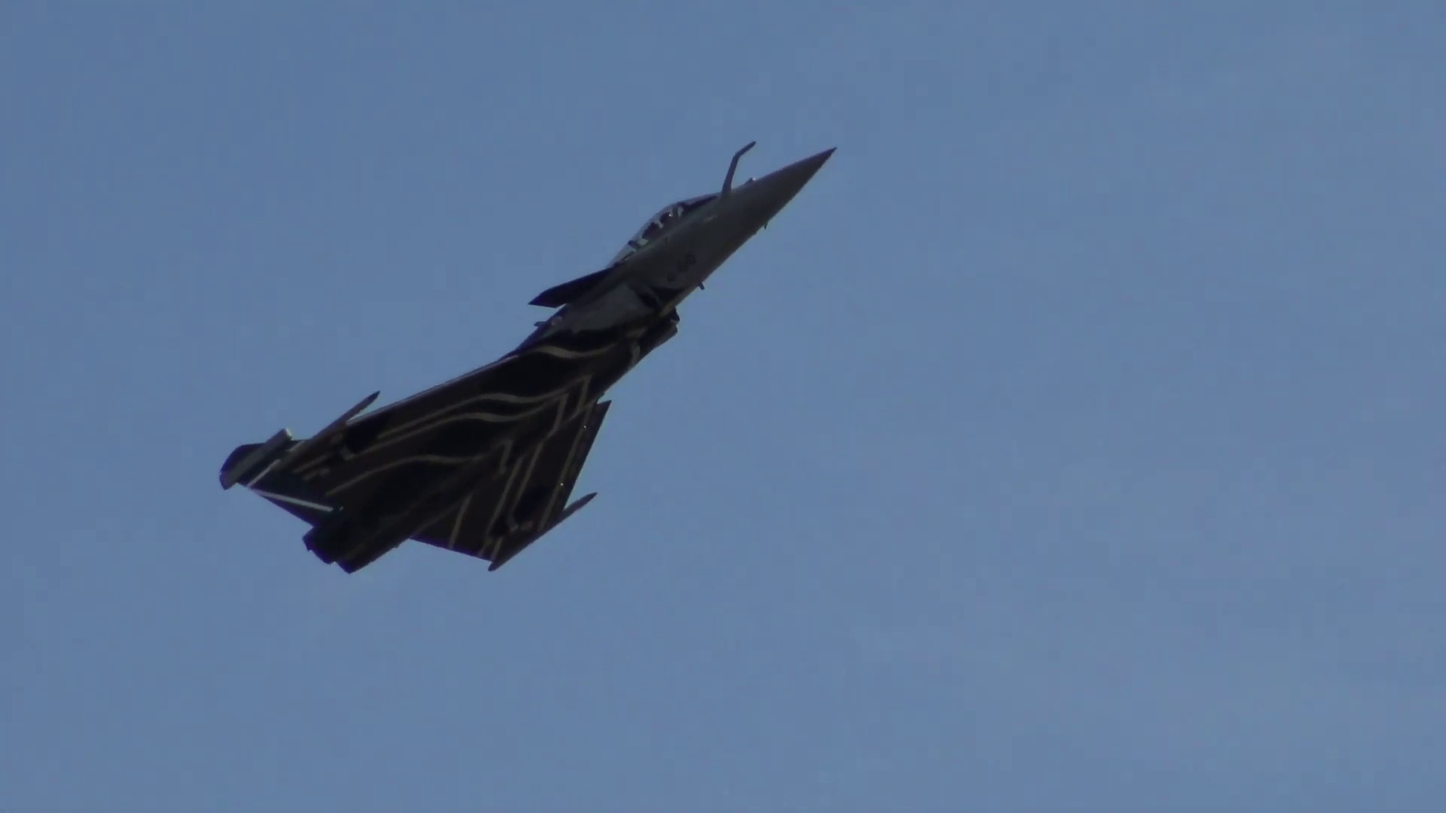Rafale: (220, 140, 838, 584)
